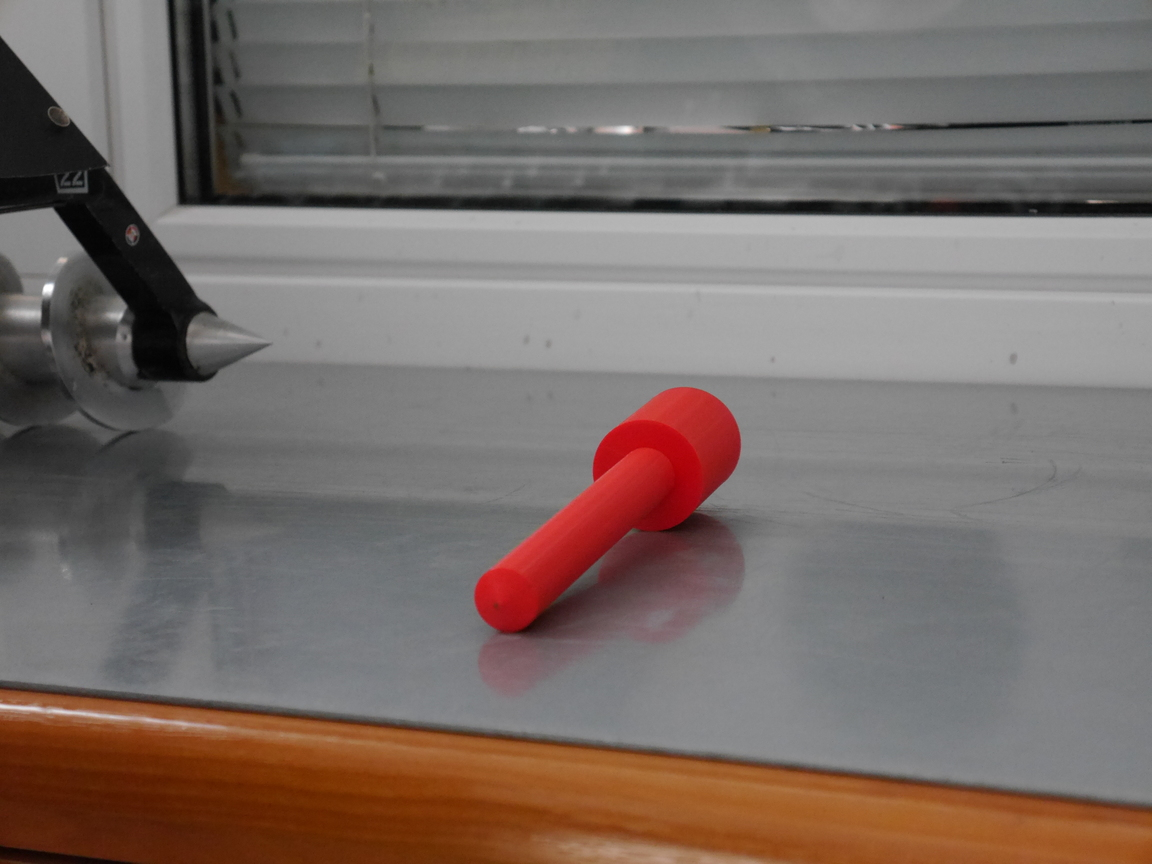cargo_g: (472, 386, 740, 632)
